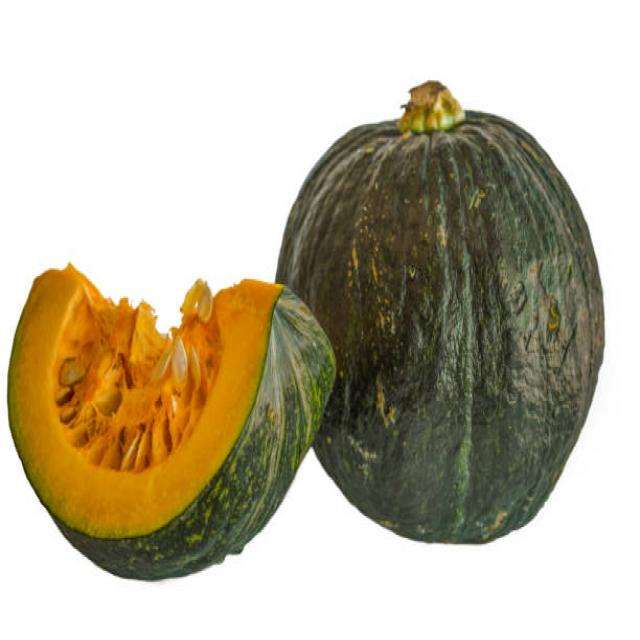Pumpkin: (328, 79, 608, 548), (5, 263, 306, 583)
